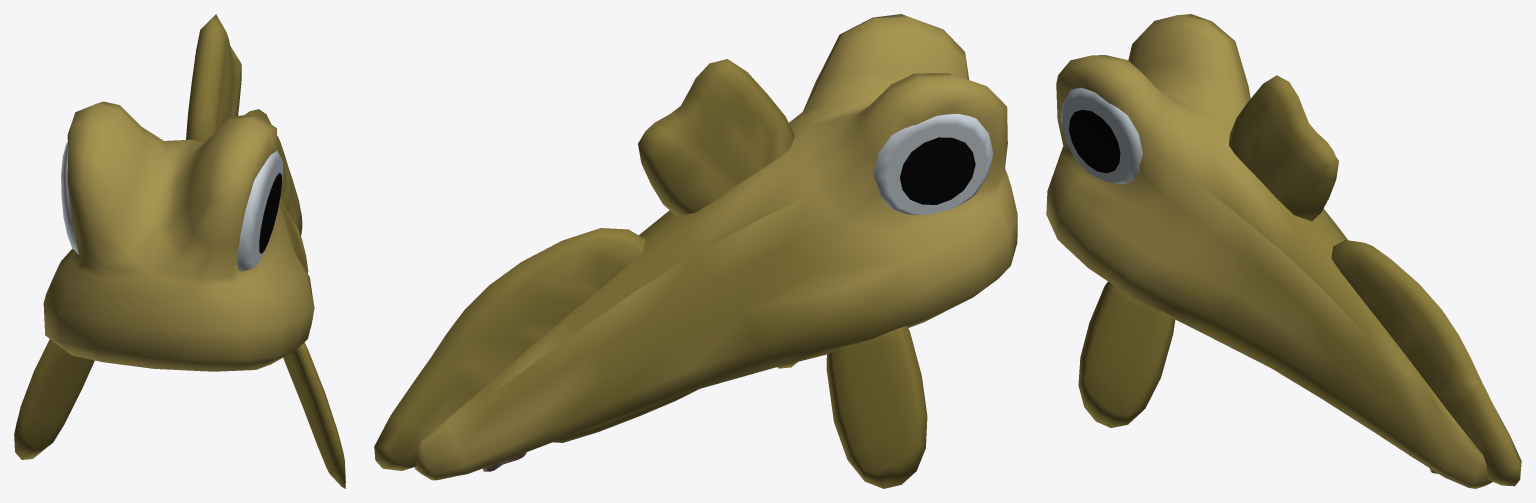
Rendered from Mudskipper.glb.
3 renders of one model, left to right at view 1: azimuth 30°, elevation 25°; view 2: azimuth 150°, elevation 25°; view 3: azimuth 270°, elevation 25°, orthographic. The views are drawn at different scales.
Visible parts, largest first — view 1: 107; view 2: 107; view 3: 107.
Boxes of the visible parts, x1,y1,x2,y2 form: 107: [14, 14, 345, 488]; 107: [374, 14, 1017, 488]; 107: [1046, 14, 1521, 488].
Bounding box in the file's own units: 0.515 × 0.4388 × 0.5556.
